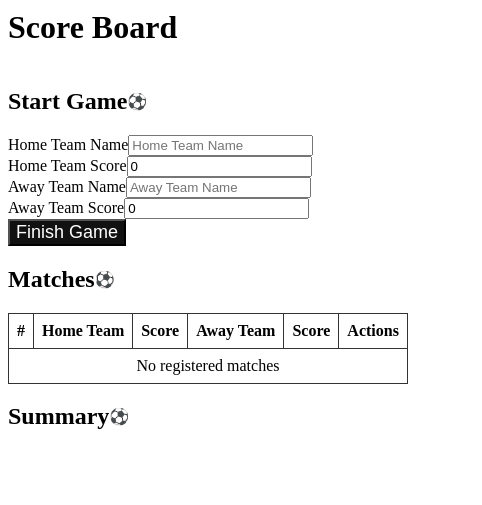
<ScoreBoard /> › End a game › should list a match after finish game
This screenshot has width=482, height=505.
Type "Peru" into the field with placeholder "Home Team Name".
click(221, 145); type("Peru")  # box x1=128 y1=135 x2=313 y2=156
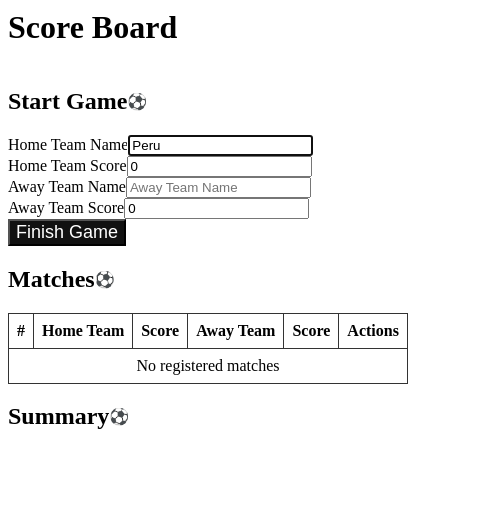
Type "6" into the 1st number field with placeholder "Home Team Score".
click(219, 166); type("6")  # box x1=126 y1=156 x2=312 y2=177
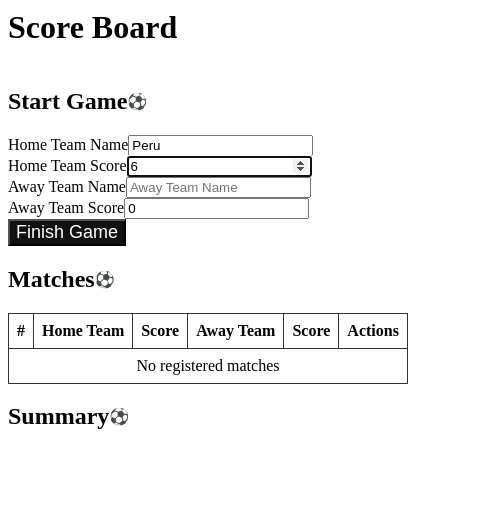
Type "Nigeria" into the field with placeholder "Away Team Name".
click(218, 187); type("Nigeria")  # box x1=126 y1=177 x2=311 y2=198
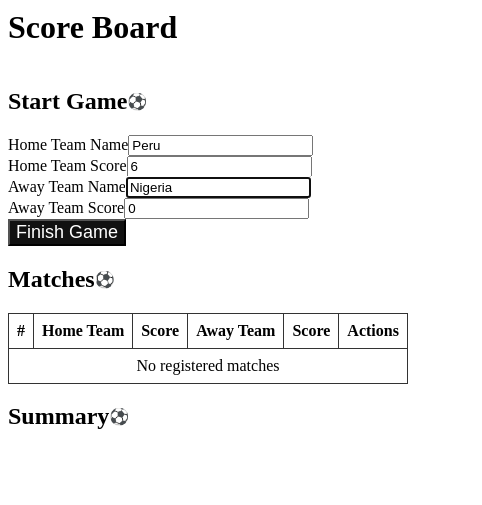
Type "3" into the 2nd number field with placeholder "Away Team Score".
click(217, 208); type("3")  # box x1=124 y1=198 x2=309 y2=219
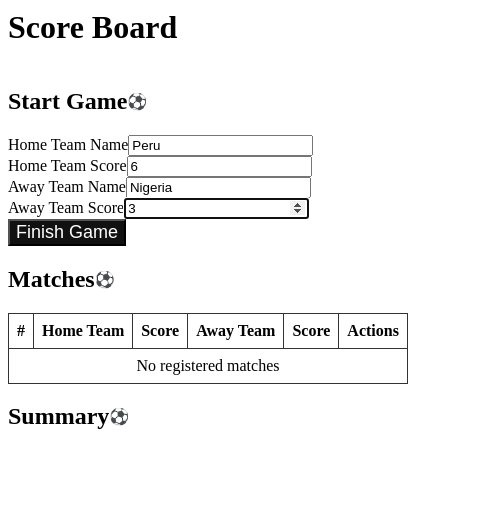
Click the button "Finish Game".
click(67, 232)  # box x1=8 y1=219 x2=126 y2=246
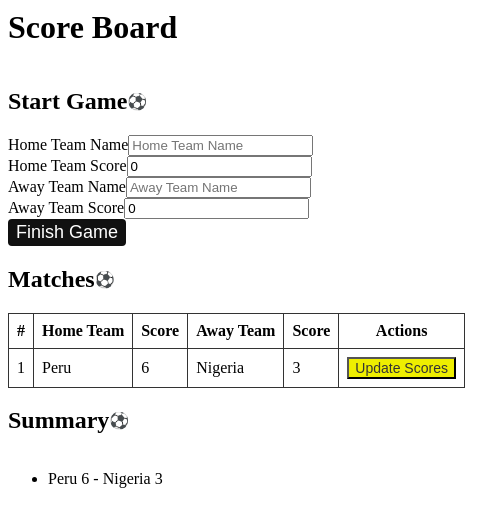
Expected: the row "1 Peru 6 Nigeria 3 Update Scores" is shown, x1=8 y1=348 x2=464 y2=387
